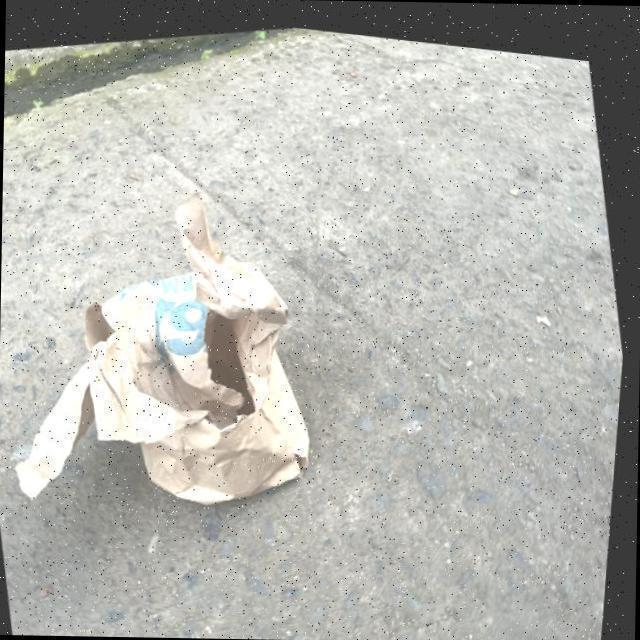Paper_Bag: (0, 158, 339, 545)
